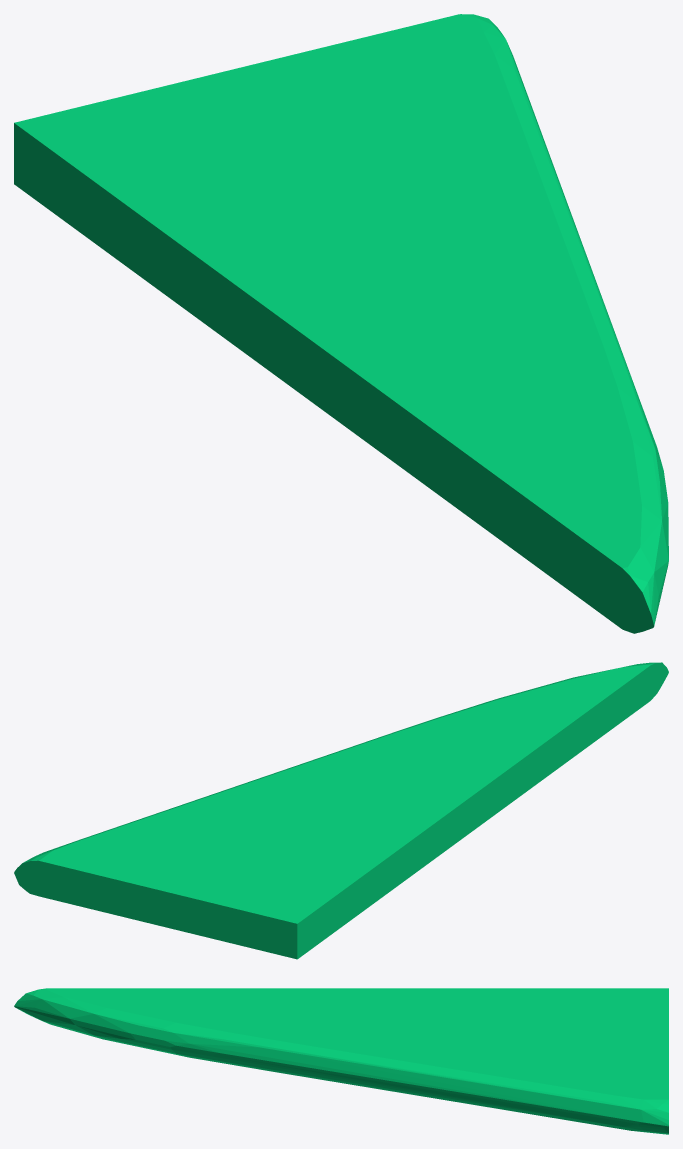
File: model0_convex_piece_007.obj
3 views of the same model, one above another, from view 1: azimuth 30°, elevation 25°; view 2: azimuth 150°, elevation 25°; view 3: azimuth 270°, elevation 25° (orthographic). The views are drawn at different scales.
Bounding box in the file's own units: 0.0232 × 0.00278 × 0.0526.
